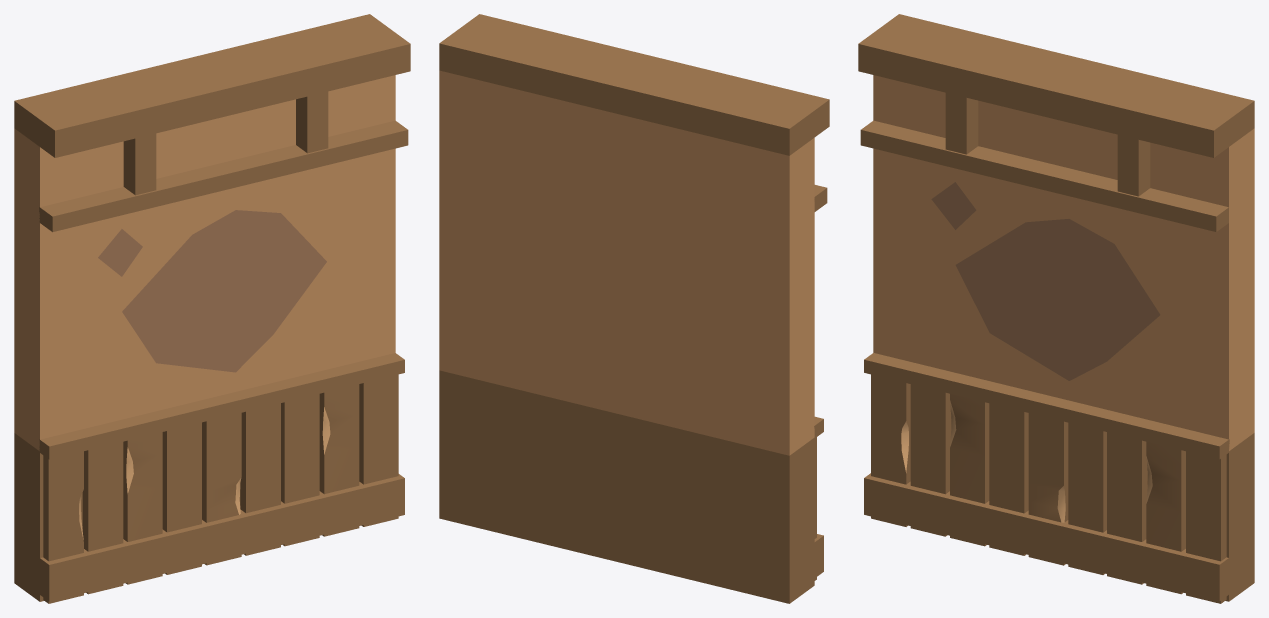
Rendered from Wall Stains.glb.
3 renders of one model, left to right at view 1: azimuth 30°, elevation 25°; view 2: azimuth 150°, elevation 25°; view 3: azimuth 330°, elevation 25°, orthographic.
Parts seen in each view (by area): view 1: Wall_Stains; view 2: Wall_Stains; view 3: Wall_Stains.
Part boxes in pixels (x1,y1,x2,y2): Wall_Stains: (14,14,410,603); Wall_Stains: (439,14,829,603); Wall_Stains: (858,14,1254,603).
Size of the model in its own units: 4 by 5.18 by 0.7952.
Materials: 1 (1 with a texture image).
